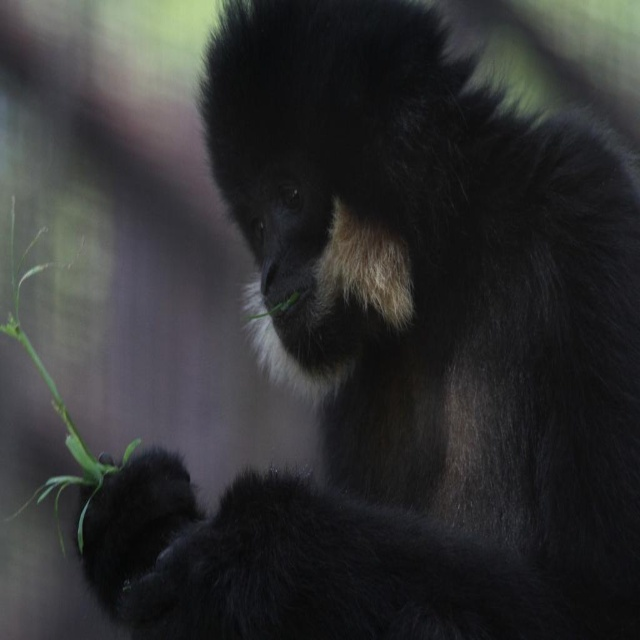Monkey: (184, 17, 637, 640)
